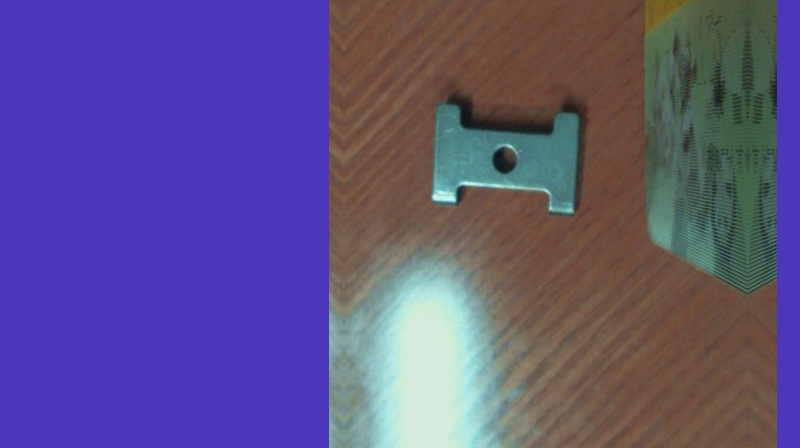O002: (430, 100, 589, 214)
